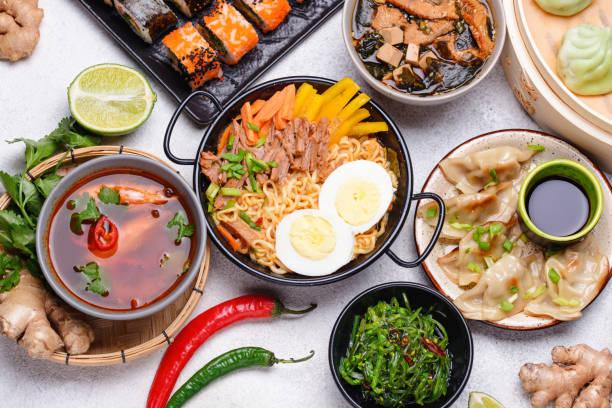Braised Crucian Carp: (171, 74, 432, 287), (1, 145, 208, 365), (412, 129, 608, 330), (77, 0, 345, 115), (327, 281, 475, 406), (343, 1, 504, 108)
